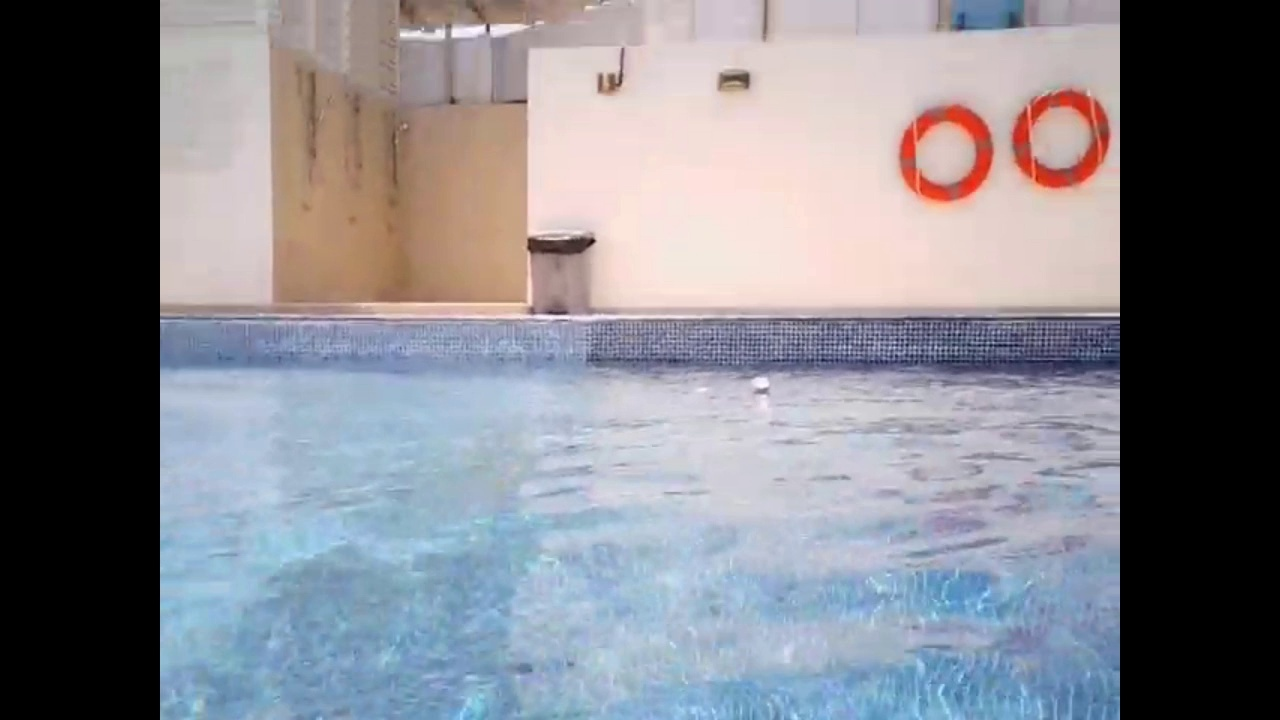debris: (746, 375, 771, 395)
